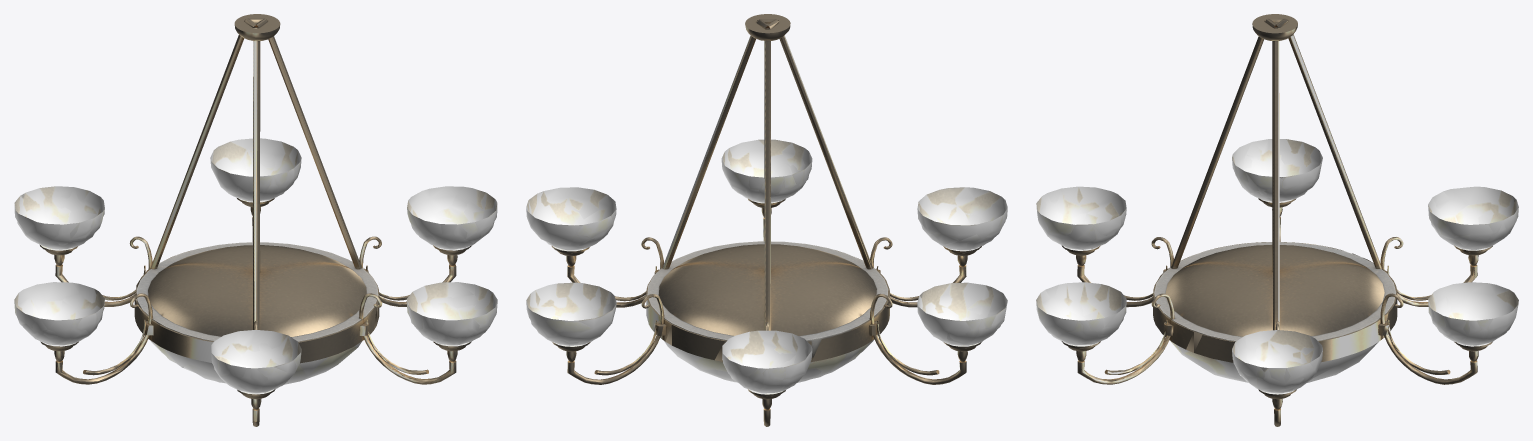
3 renders of one model, left to right at view 1: azimuth 30°, elevation 25°; view 2: azimuth 150°, elevation 25°; view 3: azimuth 270°, elevation 25°, orthographic.
Parts seen in each view (by area): view 1: glass_001, solid_001; view 2: glass_001, solid_001; view 3: glass_001, solid_001.
Boxes of the visible parts, x1,y1,x2,y2 form: glass_001: [14, 138, 497, 393]; solid_001: [40, 14, 471, 426]; glass_001: [526, 139, 1007, 393]; solid_001: [551, 14, 981, 426]; glass_001: [1036, 139, 1518, 393]; solid_001: [1061, 14, 1492, 426].
Size of the model in its own units: 1.63 by 1.19 by 1.45.
Materials: 1 (1 with a texture image).
